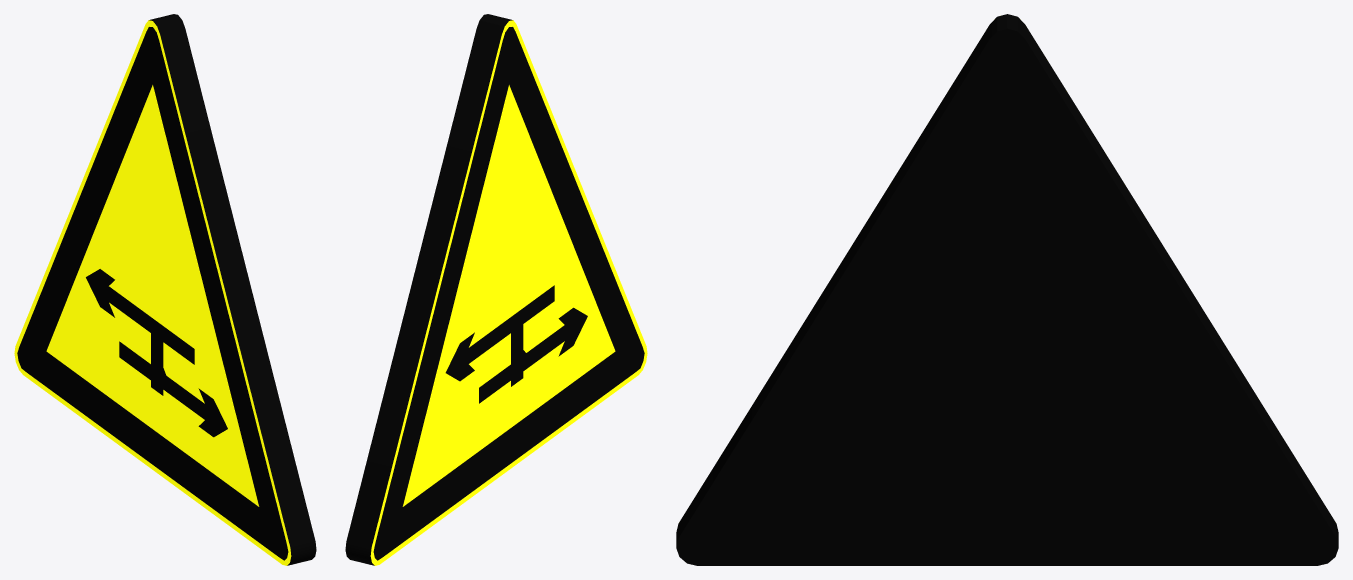
The model's file is Ding_Flat_Crossing.glb.
3 renders of one model, left to right at view 1: azimuth 30°, elevation 25°; view 2: azimuth 150°, elevation 25°; view 3: azimuth 270°, elevation 25°, orthographic. The views are drawn at different scales.
Visible parts, largest first — view 1: Ding_Flat_Crossing; view 2: Ding_Flat_Crossing; view 3: Ding_Flat_Crossing.
Part boxes in pixels (left/top/right/bottom): Ding_Flat_Crossing: left=14, top=14, right=316, bottom=565; Ding_Flat_Crossing: left=345, top=14, right=647, bottom=565; Ding_Flat_Crossing: left=676, top=14, right=1338, bottom=565.
Size of the model in its own units: 0.0643 by 1.02 by 1.14.
